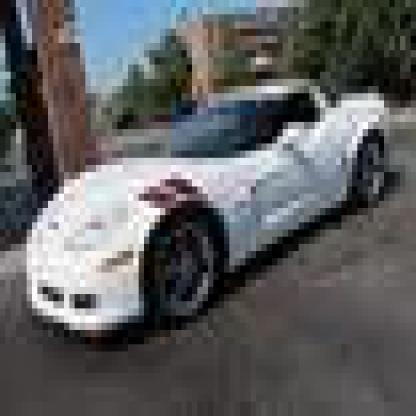car: (16, 50, 405, 359)
